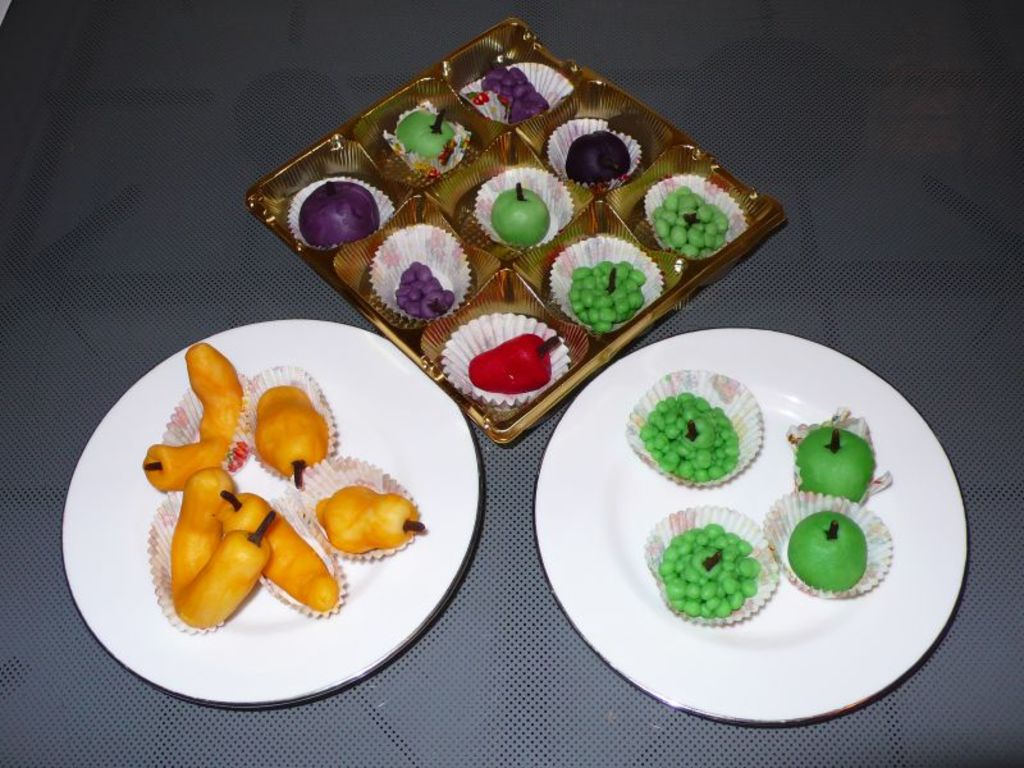plate: (532, 325, 970, 725)
